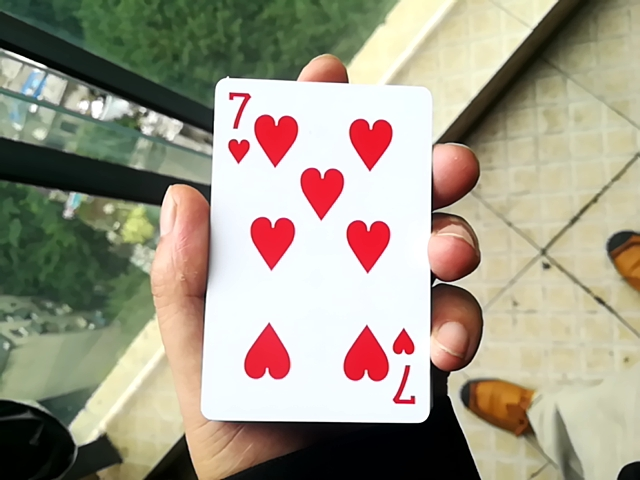hx 7: (191, 66, 427, 431)
